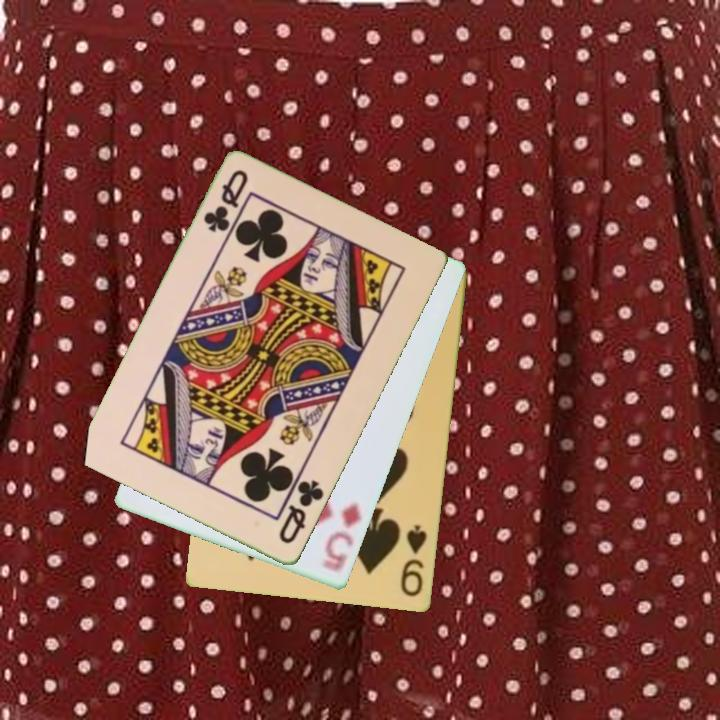5d: (319, 499, 365, 576)
9s: (397, 521, 431, 600)
Qc: (275, 476, 327, 548), (200, 166, 252, 236)
